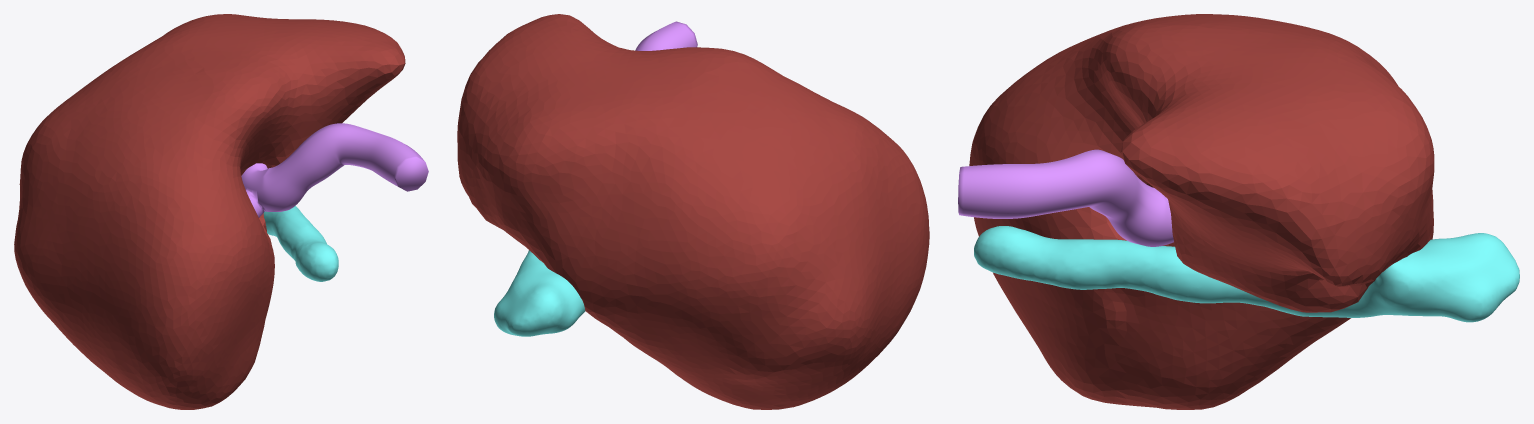
File: Liver and Vessel.fbx
The picture shows the model from 3 angles, left to right: view 1: azimuth 30°, elevation 25°; view 2: azimuth 150°, elevation 25°; view 3: azimuth 270°, elevation 25°; orthographic projection. The views are drawn at different scales.
Visible parts, largest first — view 1: liver, PV, IVC; view 2: liver, IVC, PV; view 3: liver, IVC, PV.
Boxes of the visible parts, x1,y1,x2,y2 form: liver: (14, 14, 405, 409); PV: (241, 123, 428, 217); IVC: (263, 206, 338, 281); liver: (457, 14, 929, 409); IVC: (494, 250, 585, 336); PV: (635, 21, 697, 50); liver: (969, 14, 1434, 409); IVC: (974, 226, 1519, 322); PV: (958, 149, 1173, 246).
Bounding box in the file's own units: 15.41 × 12.59 × 15.99.
